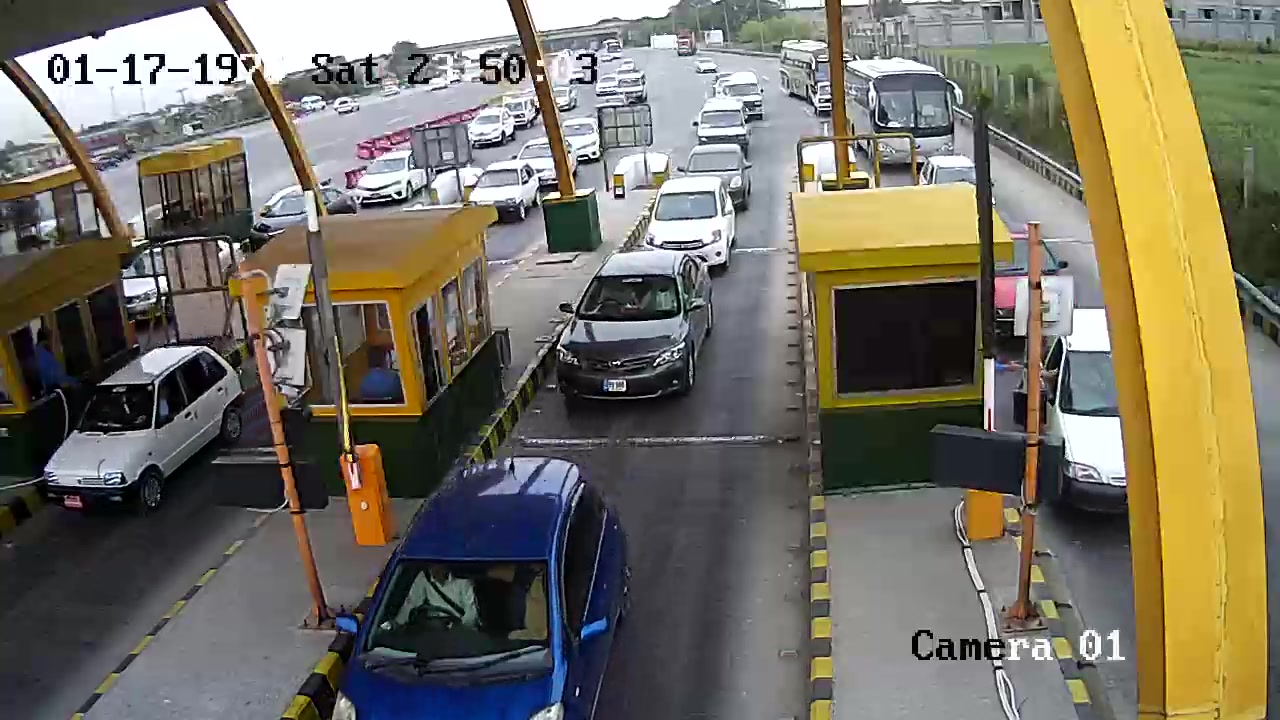F1: (555, 246, 714, 409)
